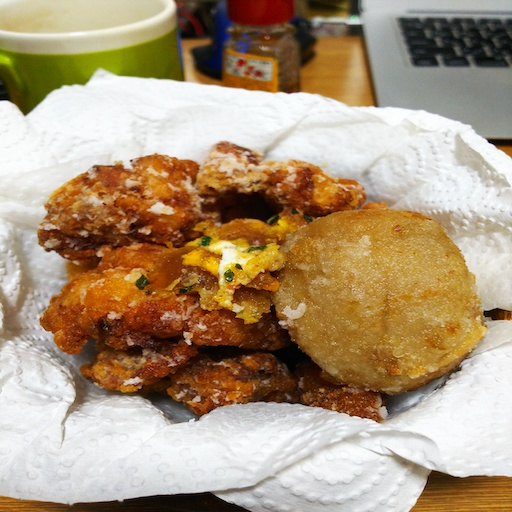other: (39, 143, 489, 423)
